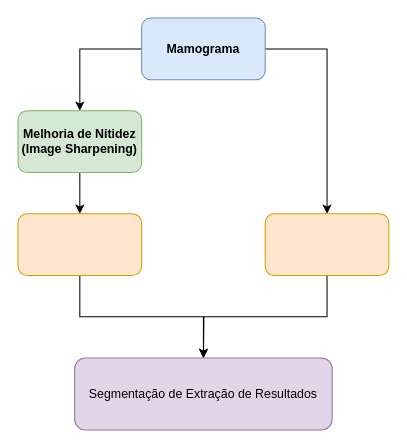
Image size: 407x448. Some labels were removed from this diagram. The shapes that lost their labels are listed below. From the top down, each one's centre as x and y in pixels, then its label:
(x=79, y=244): Máscara Superior (Top Mask)
(x=326, y=244): Máscara Bruta (Rough Mask)
